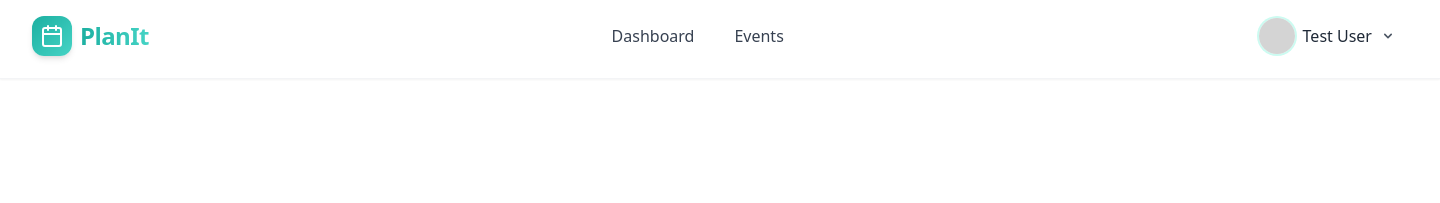
Test: Navbar Component › toggles dropdown when clicking profile area
Check: the text "Settings" is not shown
Click the text "Test User".
click(1337, 36)  # box left=1303, top=24, right=1372, bottom=48
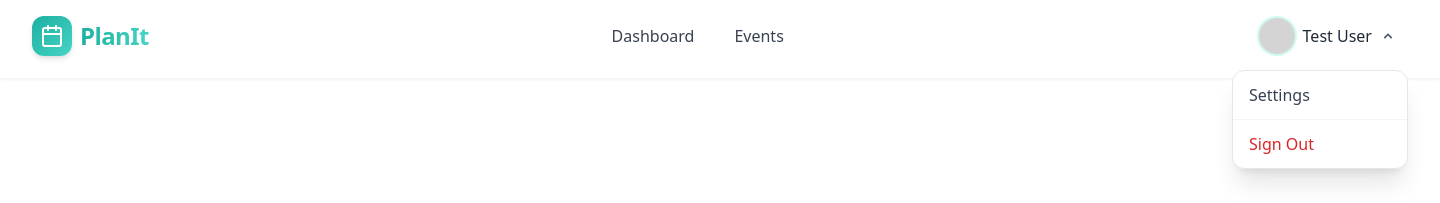
Check: the button "Settings" is shown, box left=1233, top=71, right=1407, bottom=119
Check: the button "Sign Out" is shown, box left=1233, top=119, right=1407, bottom=168
Click the text "Test User".
click(1337, 36)  # box left=1303, top=24, right=1372, bottom=48
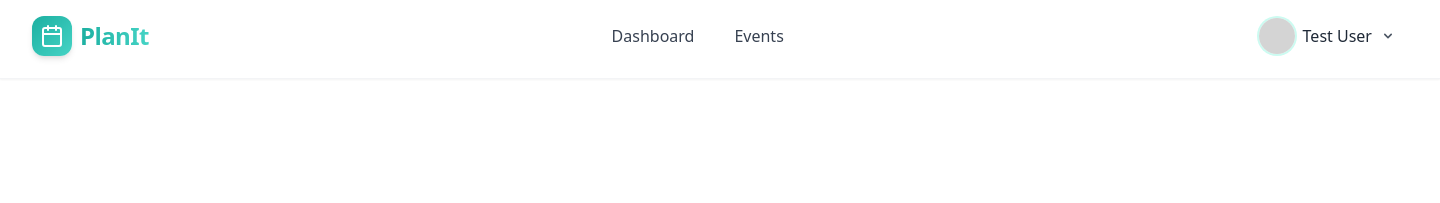
Check: the button "Settings" is gone
